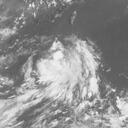cyclone: (35, 40, 97, 102)
